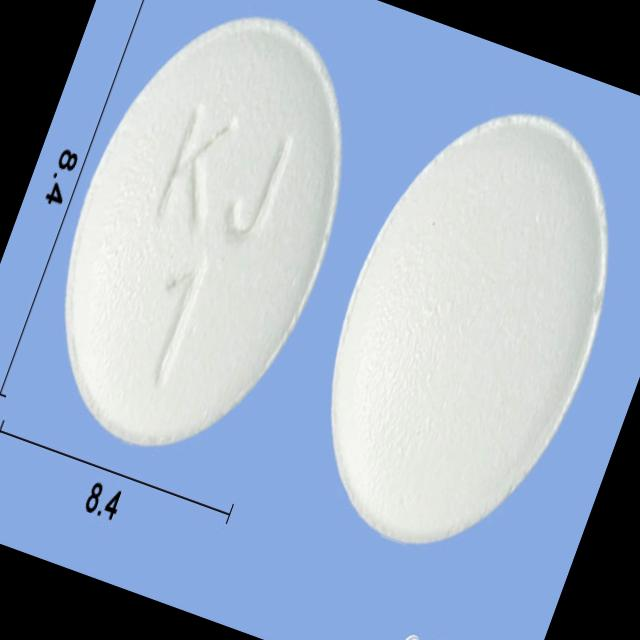Levocacin: (10, 0, 396, 485)
